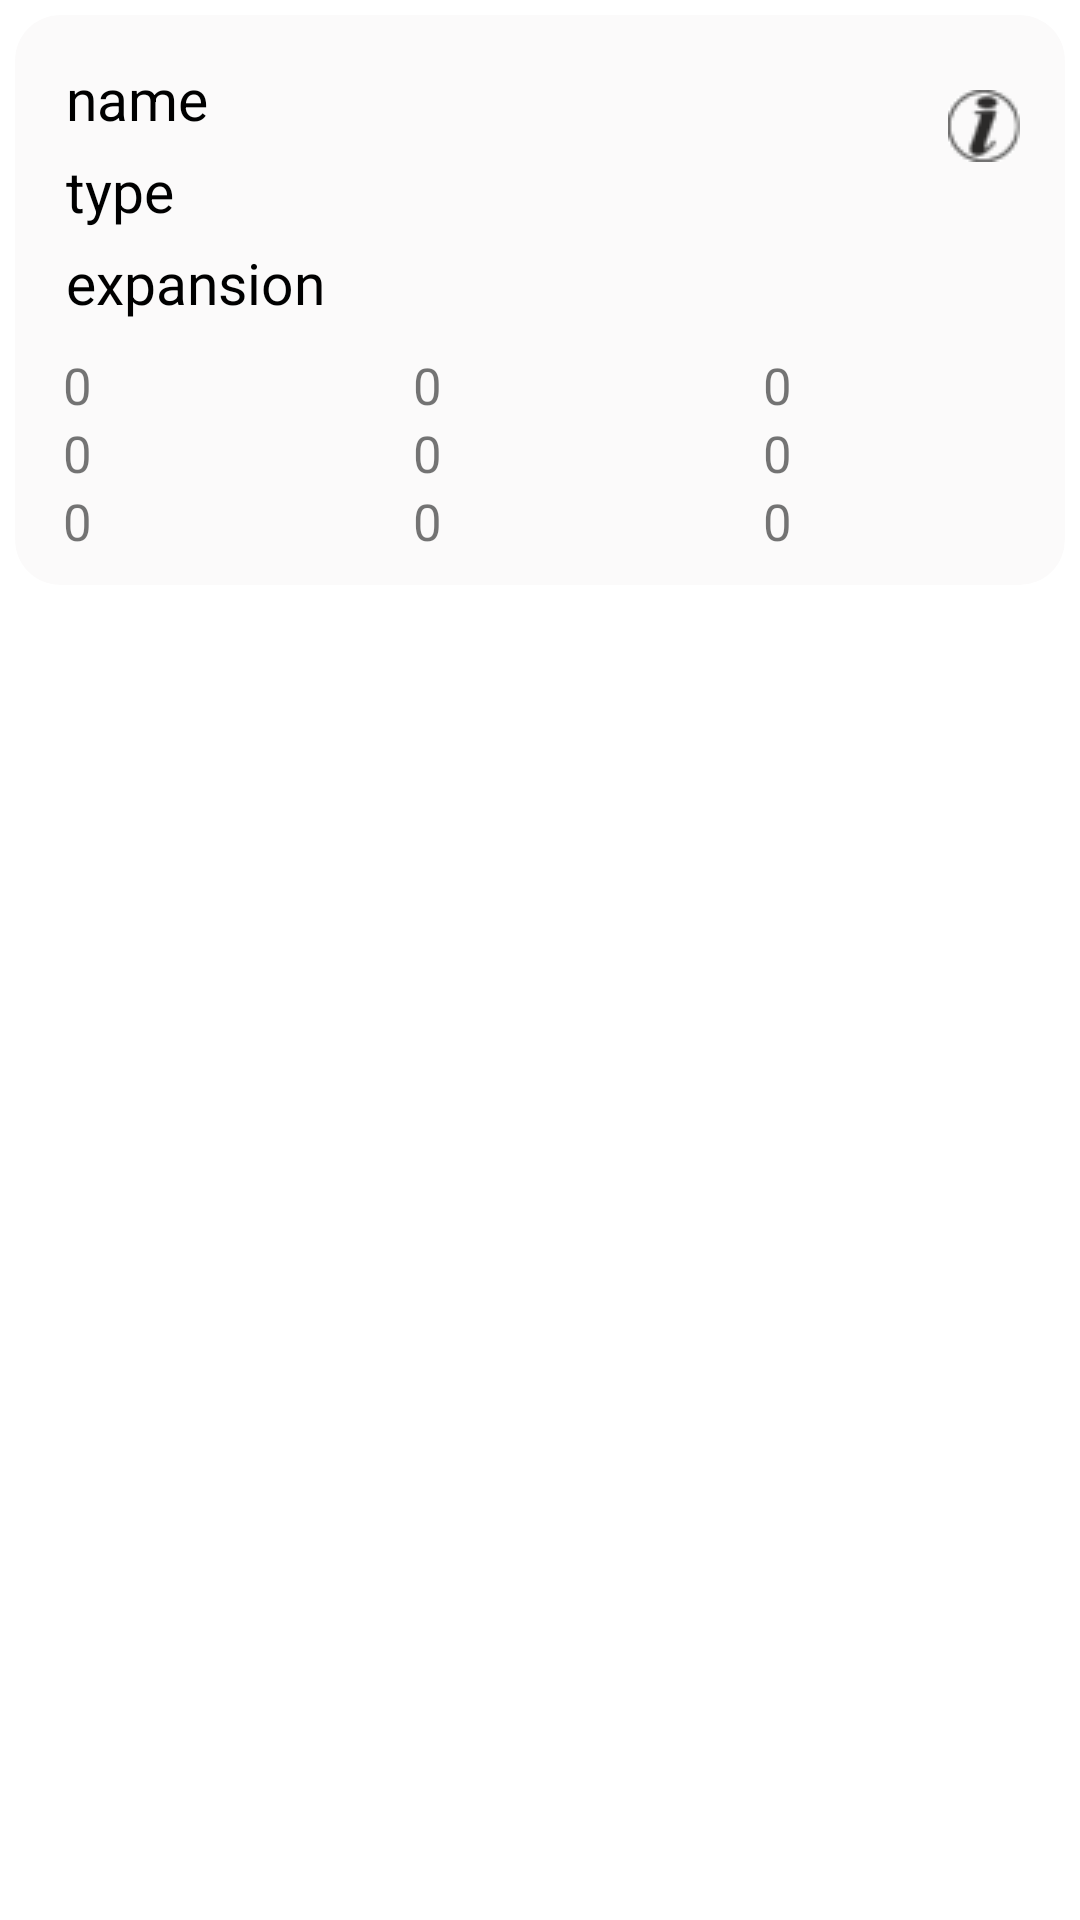

Screen size 1080w x 1920h. Icon name, then its box in pixels as (x1, y1, x2, y2):
info: (948, 90, 1020, 162)
